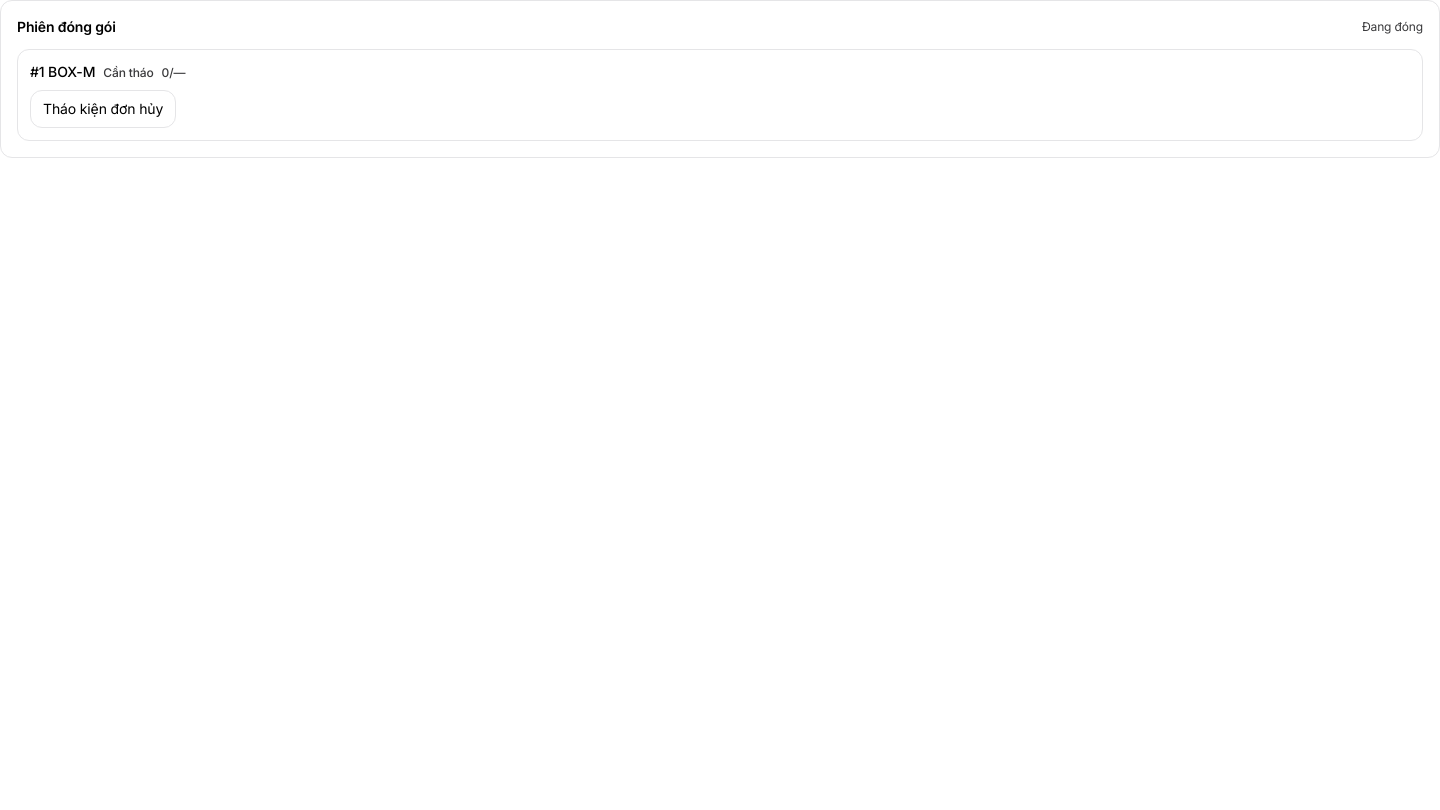
PackingSessionPanel — AOFP-332 › AC3: thùng đã cắt hạ → tháo kiện chỉ chọn được thùng hỏng
What coordinates should you click on to do the following:
click the button "Tháo kiện đơn hủy"
I would click on:
 (103, 109)
Its box is [30, 90, 176, 128].
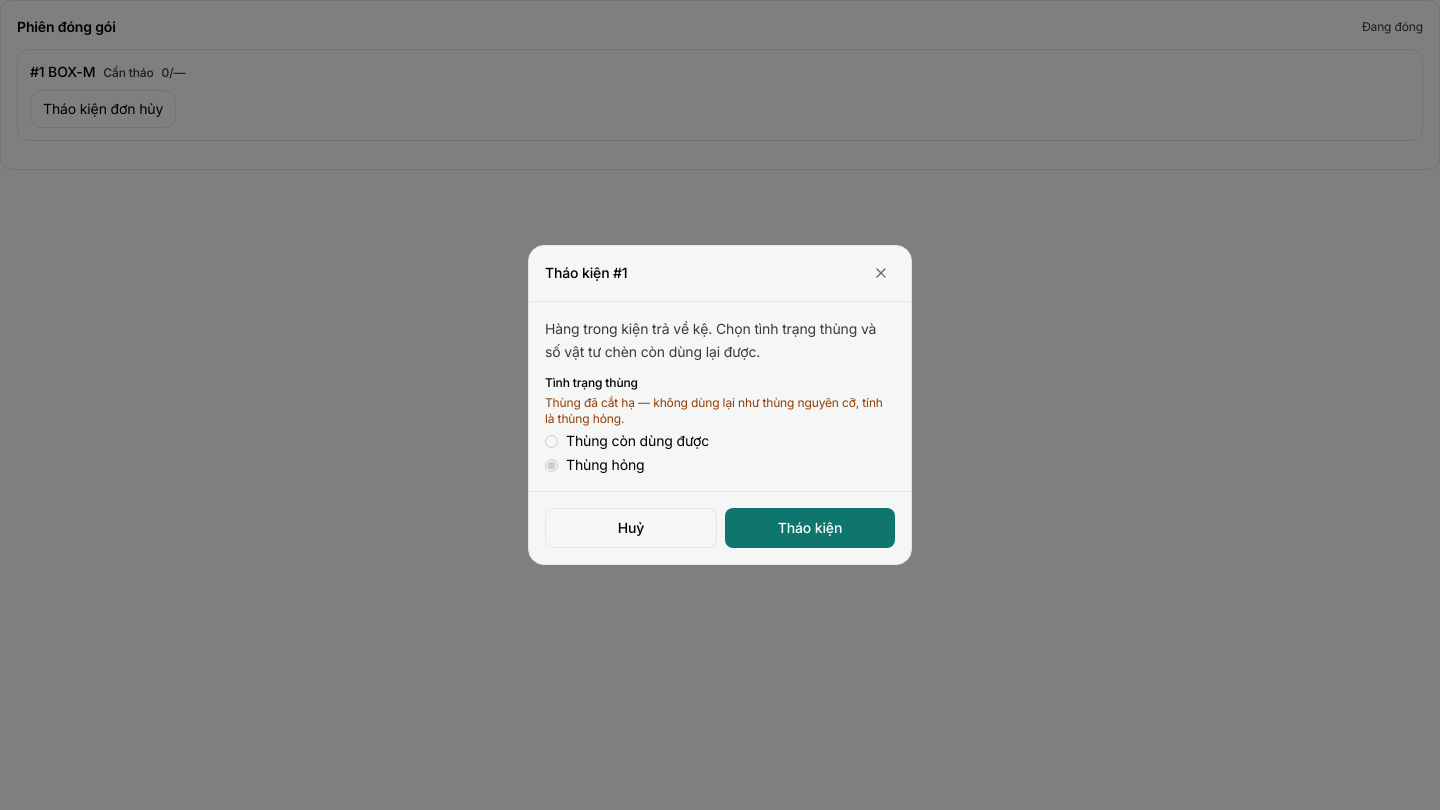
Expected: the radio button labelled "Thùng hỏng" is checked, [545, 459, 558, 472]
Expected: the radio button labelled "Thùng còn dùng được" is disabled, [545, 435, 558, 448]
Expected: the button "Tháo kiện" is enabled, [725, 508, 895, 548]
